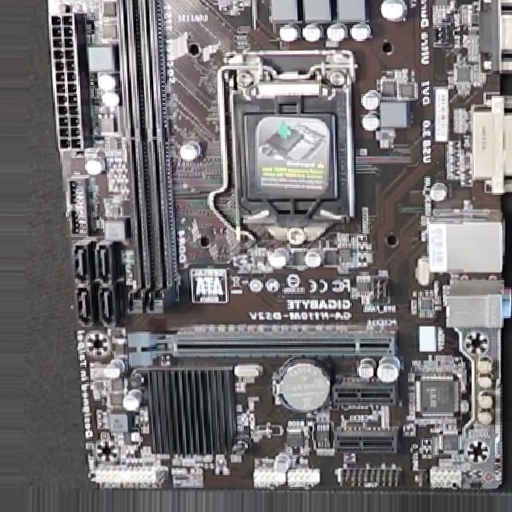CPU: (234, 50, 355, 245)
GPU: (128, 332, 399, 368)
MOTHERBOARD: (48, 1, 504, 488)
RAM: (115, 1, 179, 314)
